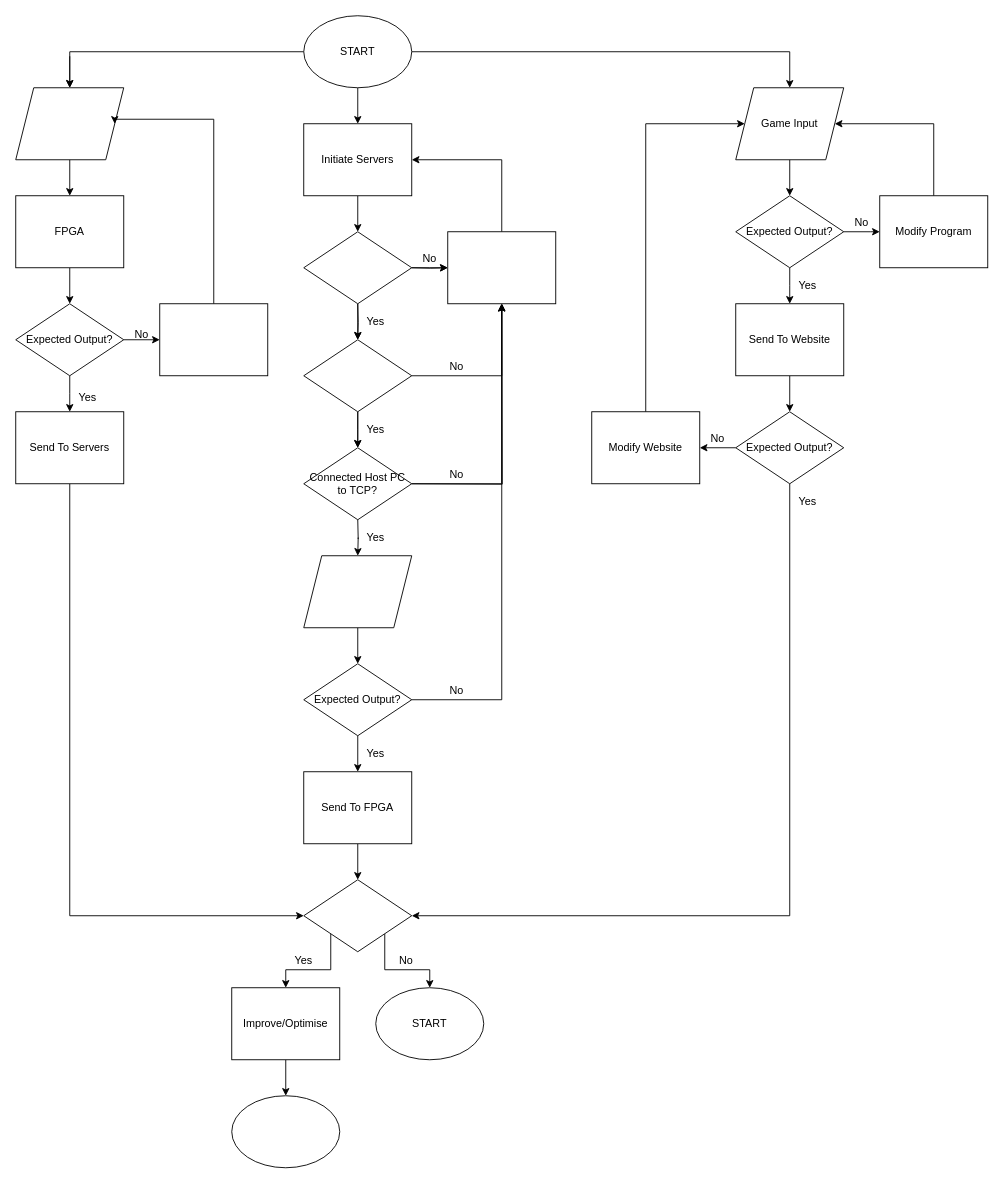
The diagram is 1004 pixels wide and 1184 high, and some of its shapes have lost their labels. Each missing label, with the box of its shape:
Connected TCP to HTTP?: (303, 339, 412, 412)
Connected Website to HTTP?: (303, 231, 412, 304)
END: (231, 1095, 340, 1168)
FPGA Input: (15, 87, 124, 160)
Modify Hardware/Software: (159, 303, 268, 376)
Modify Server: (447, 231, 556, 304)
Server Output: (303, 555, 412, 628)
Works Together?: (303, 879, 412, 952)
